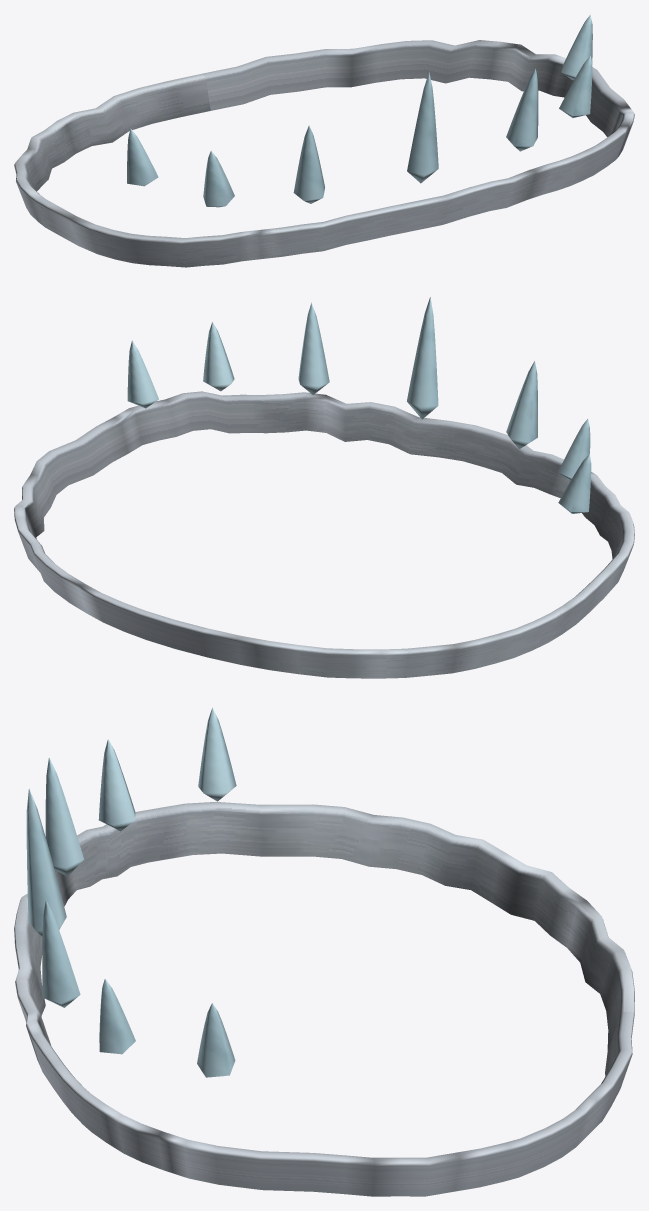
File: ice_crown.glb
3 renders of one model, top to bottom at view 1: azimuth 30°, elevation 25°; view 2: azimuth 150°, elevation 25°; view 3: azimuth 270°, elevation 25°, orthographic. The views are drawn at different scales.
Parts seen in each view (by area): view 1: ice_crown_band, ice_crown_spike3, ice_crown_spike4, ice_crown_spike2, ice_crown_spike5, ice_crown_spike1, ice_crown_spike0, ice_crown_spike6; view 2: ice_crown_band, ice_crown_spike3, ice_crown_spike4, ice_crown_spike2, ice_crown_spike5, ice_crown_spike6, ice_crown_spike0, ice_crown_spike1; view 3: ice_crown_band, ice_crown_spike3, ice_crown_spike2, ice_crown_spike4, ice_crown_spike0, ice_crown_spike1, ice_crown_spike6, ice_crown_spike5.
Boxes of the visible parts, x1,y1,x2,y2 form: ice_crown_band: [14, 40, 634, 267]; ice_crown_spike3: [407, 72, 438, 183]; ice_crown_spike4: [506, 69, 538, 151]; ice_crown_spike2: [293, 125, 324, 203]; ice_crown_spike5: [559, 55, 592, 117]; ice_crown_spike1: [203, 151, 234, 207]; ice_crown_spike0: [127, 128, 158, 186]; ice_crown_spike6: [561, 14, 592, 79]; ice_crown_band: [14, 391, 634, 678]; ice_crown_spike3: [407, 297, 438, 419]; ice_crown_spike4: [298, 302, 329, 394]; ice_crown_spike2: [506, 361, 537, 448]; ice_crown_spike5: [203, 322, 234, 391]; ice_crown_spike6: [127, 340, 158, 408]; ice_crown_spike0: [558, 453, 591, 513]; ice_crown_spike1: [558, 419, 590, 481]; ice_crown_band: [14, 802, 634, 1196]; ice_crown_spike3: [26, 788, 66, 936]; ice_crown_spike2: [45, 757, 84, 876]; ice_crown_spike4: [42, 900, 80, 1007]; ice_crown_spike0: [198, 707, 236, 801]; ice_crown_spike1: [98, 739, 135, 831]; ice_crown_spike6: [197, 1003, 235, 1077]; ice_crown_spike5: [99, 979, 135, 1054].
Size of the model in its own units: 24.28 by 8.44 by 17.85.
Materials: 1 (1 with a texture image).
